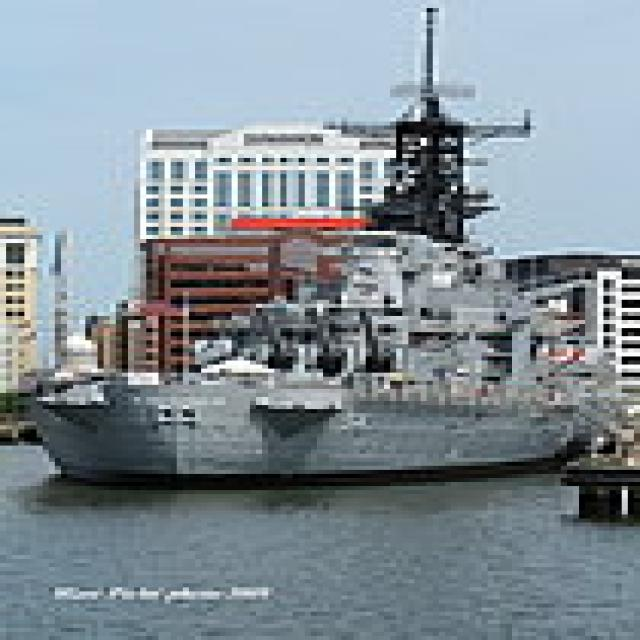Warship: (12, 0, 604, 486)
